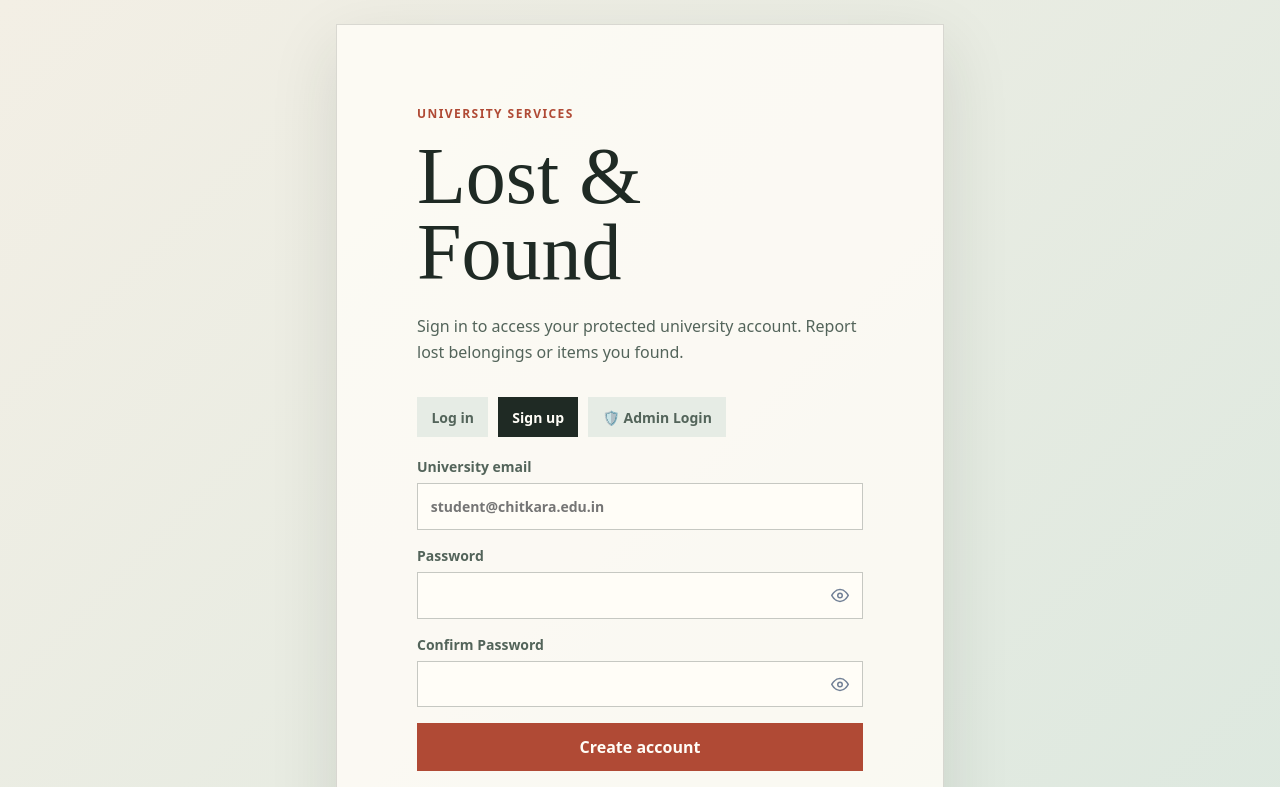
Task 2: Dedicated Admin Authentication & Dashboard › renders dedicated admin login portal mode and switches fields
The image size is (1280, 787).
Click the button "🛡️ Admin Login". click: x=657, y=417
box: 588,397 -> 726,437
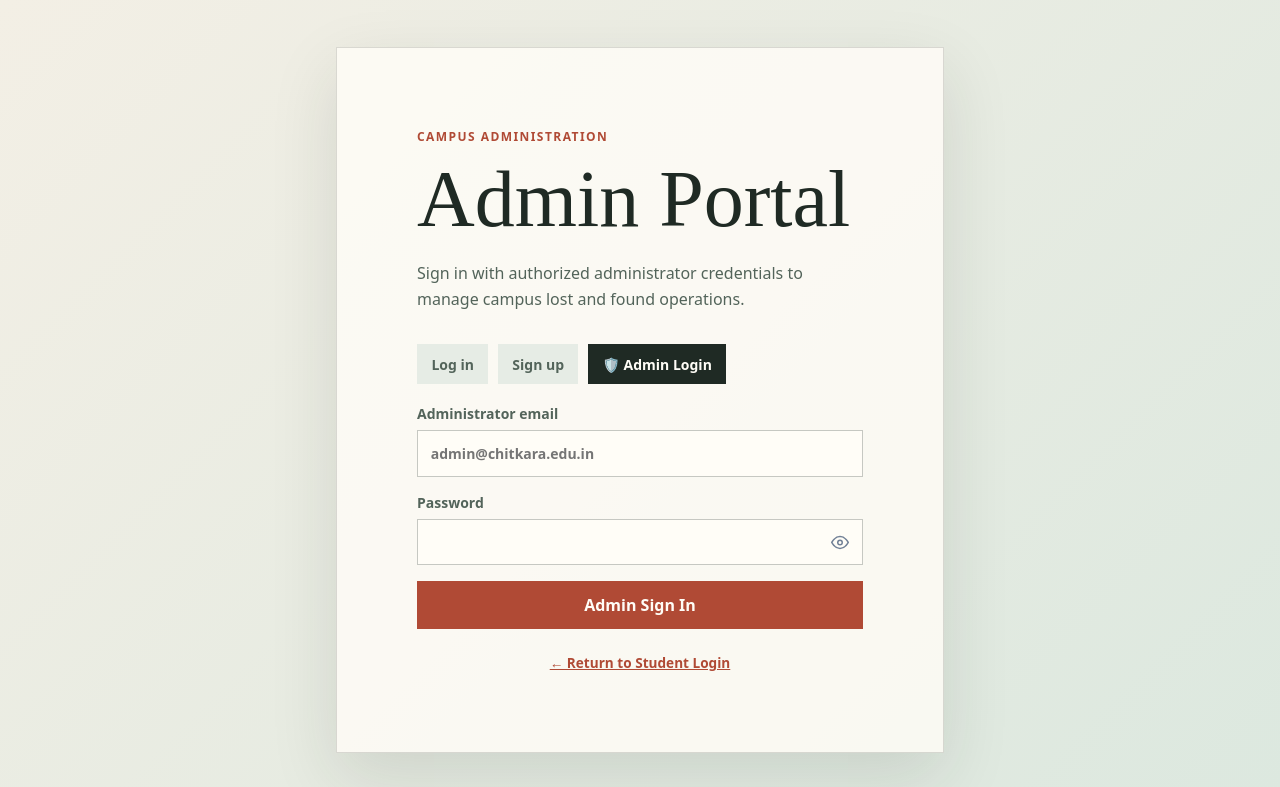
Expected: the heading "Admin Portal" is shown, 417,161 -> 863,237
Expected: the field with placeholder "admin@chitkara.edu.in" is shown, 417,430 -> 863,477
Expected: the button "Admin Sign In" is shown, 417,582 -> 863,629
